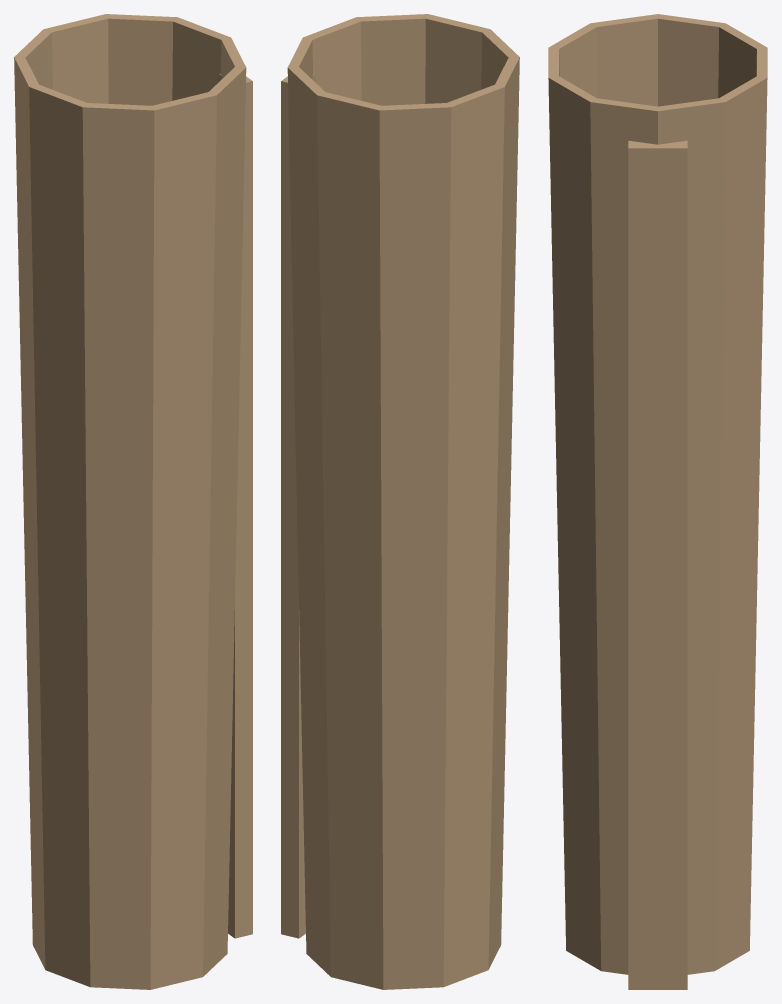
Rendered from prop-quiver-tube-blank.fbx.
The picture shows the model from 3 angles, left to right: view 1: azimuth 30°, elevation 25°; view 2: azimuth 150°, elevation 25°; view 3: azimuth 270°, elevation 25°; orthographic projection.
Parts seen in each view (by area): view 1: prop-quiver-tube-blank; view 2: prop-quiver-tube-blank; view 3: prop-quiver-tube-blank.
Boxes of the visible parts, x1,y1,x2,y2 form: prop-quiver-tube-blank: [14, 14, 252, 989]; prop-quiver-tube-blank: [281, 14, 519, 989]; prop-quiver-tube-blank: [548, 14, 767, 989].
Size of the model in its own units: 12.8 by 52 by 11.79.
